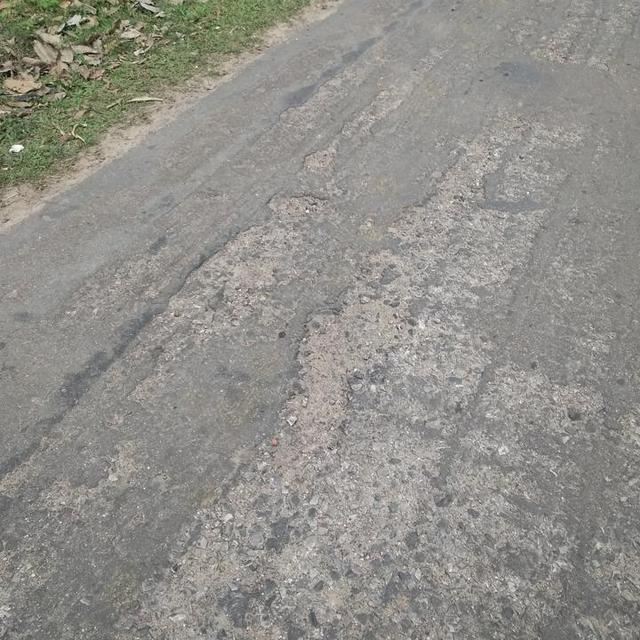Pothole: (172, 187, 334, 318), (283, 286, 409, 431)
